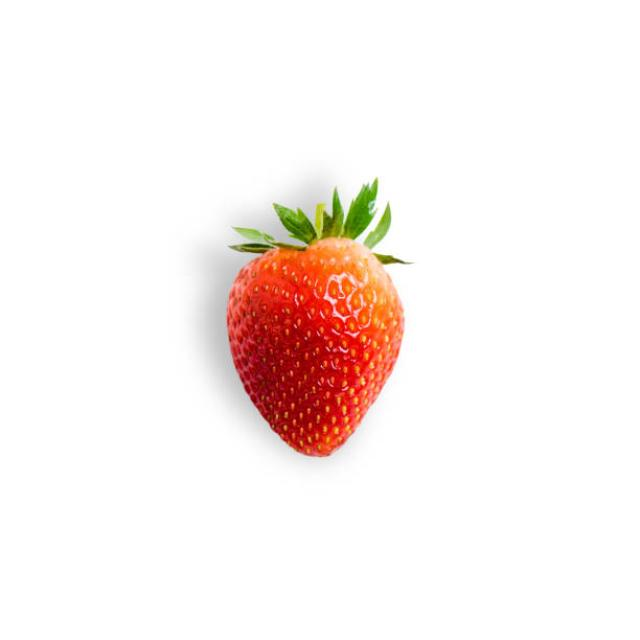Healthy Fruit: (225, 240, 407, 456)
